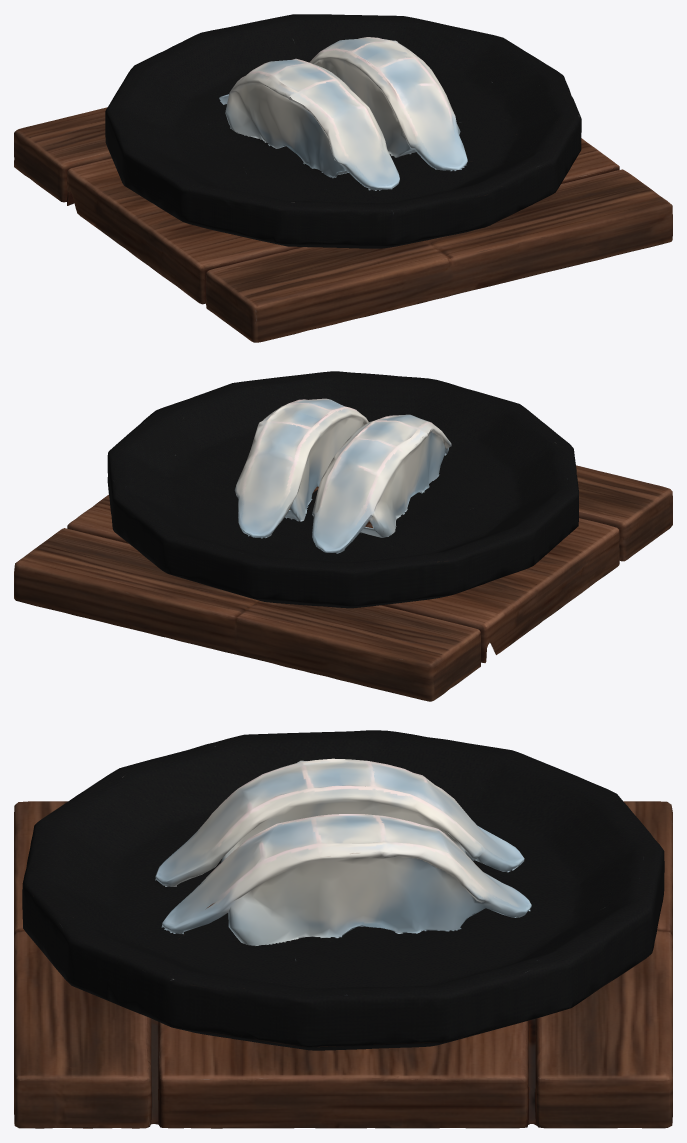
File: fugu.glb
The picture shows the model from 3 angles, top to bottom: view 1: azimuth 30°, elevation 25°; view 2: azimuth 150°, elevation 25°; view 3: azimuth 270°, elevation 25°; orthographic projection. The views are drawn at different scales.
Visible parts, largest first — view 1: world; view 2: world; view 3: world.
Boxes of the visible parts, x1,y1,x2,y2 form: world: (14, 14, 672, 342); world: (14, 371, 672, 701); world: (14, 730, 672, 1128).
Size of the model in its own units: 1 by 0.3245 by 1.
1 material, 1 textured.
